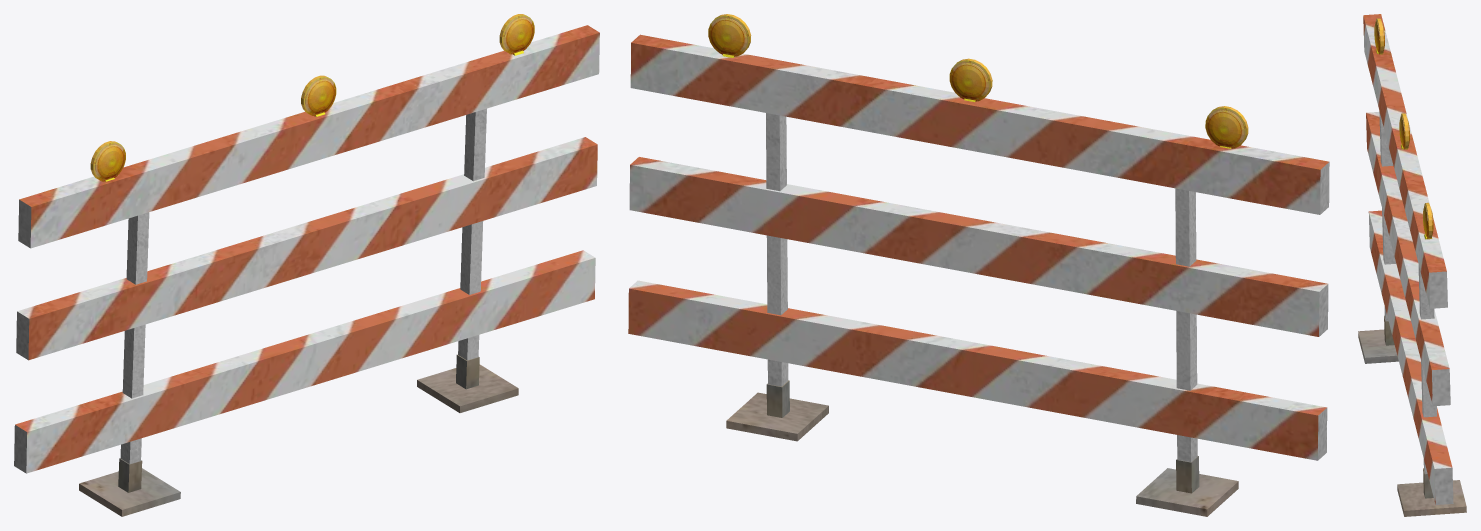
File: barric_02.glb
3 views of the same model, side by side, from view 1: azimuth 30°, elevation 25°; view 2: azimuth 150°, elevation 25°; view 3: azimuth 270°, elevation 25° (orthographic). The views are drawn at different scales.
Parts seen in each view (by area): view 1: geometry_0; view 2: geometry_0; view 3: geometry_0.
Part boxes in pixels (x1,y1,x2,y2): geometry_0: (14,14,599,516); geometry_0: (628,14,1329,516); geometry_0: (1358,14,1466,516).
Size of the model in its own units: 2.77 by 1.59 by 0.4949.
1 material, 1 textured.
